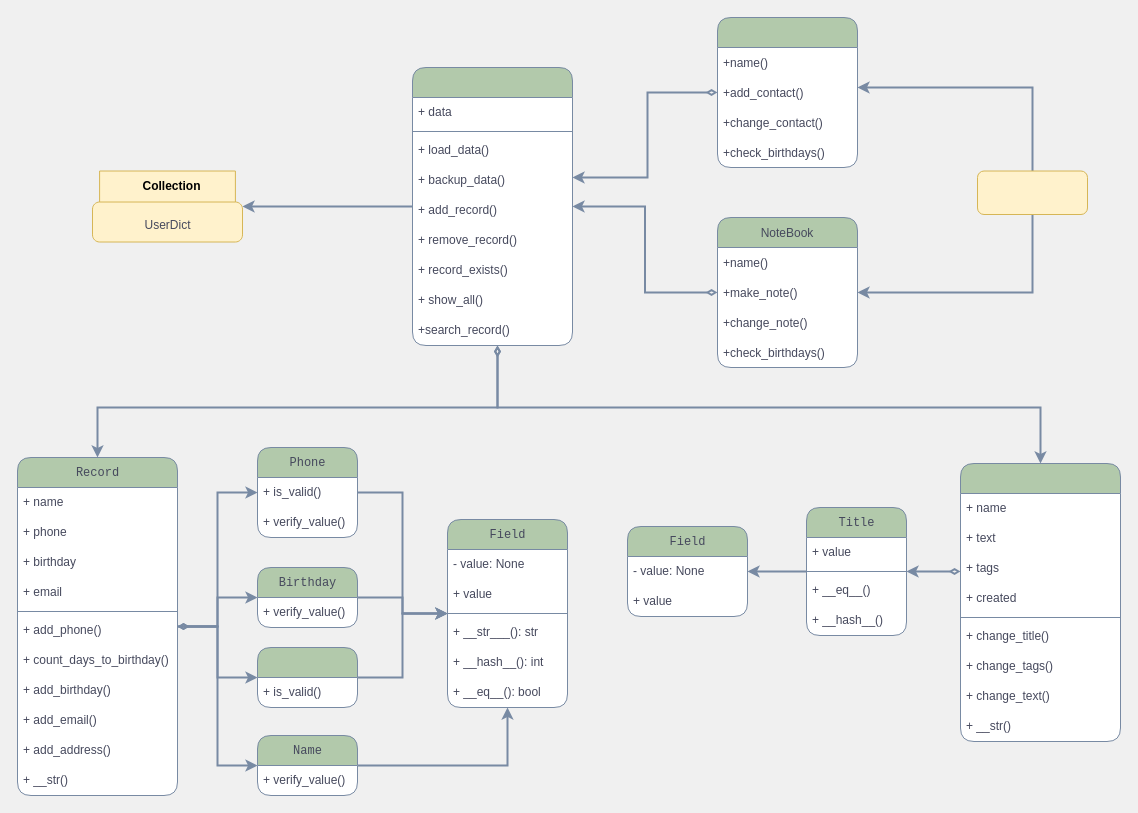
Some shapes in this 1138 by 813 pixel diagram are drawn without their labels. Each missing label, with the box of its shape:
AddressBook: (716, 16, 858, 168)
BotFeature: (976, 170, 1088, 214)
Email: (256, 646, 358, 708)
NoteRecord: (960, 462, 1120, 742)
RecordContainer: (412, 66, 572, 346)
